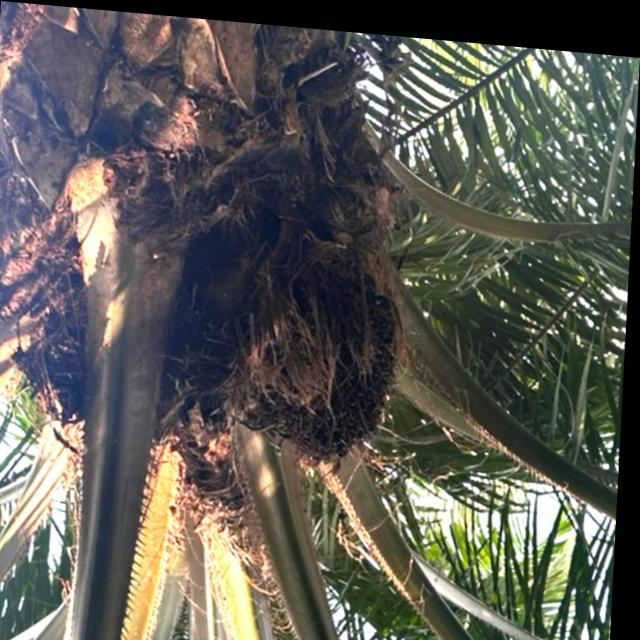almost: (250, 271, 406, 473)
